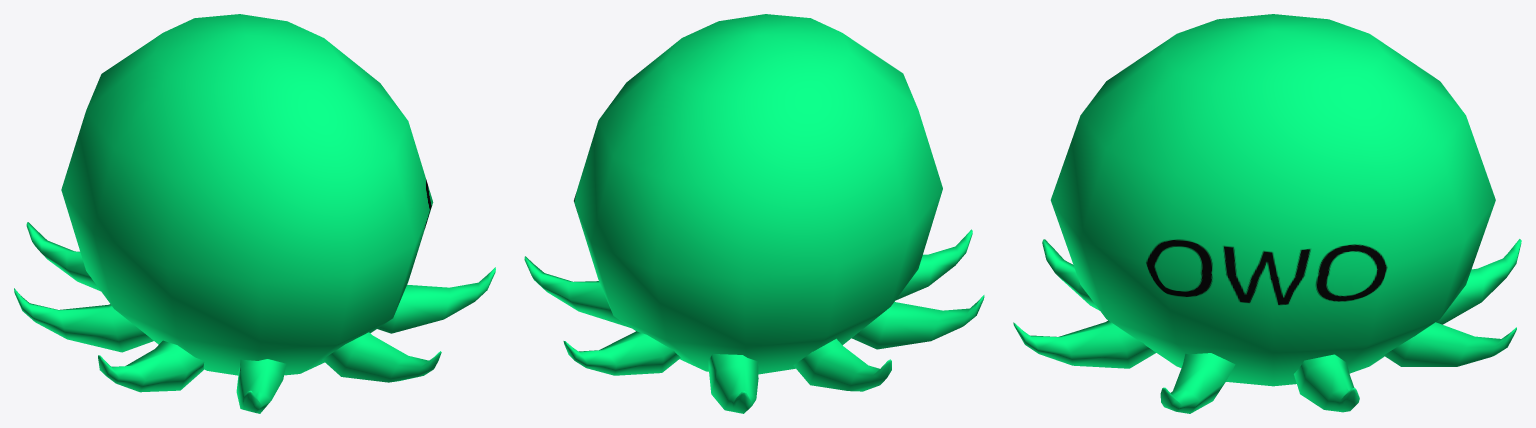
File: Octopus Blob OWO GREEN.fbx
3 renders of one model, left to right at view 1: azimuth 30°, elevation 25°; view 2: azimuth 150°, elevation 25°; view 3: azimuth 270°, elevation 25°, orthographic. The views are drawn at different scales.
Parts seen in each view (by area): view 1: Cylinder006; view 2: Cylinder006; view 3: Cylinder006.
Part boxes in pixels (<box>): Cylinder006: <box>14,14,495,413</box>; Cylinder006: <box>524,14,984,413</box>; Cylinder006: <box>1013,14,1521,413</box>.
Size of the model in its own units: 17.84 by 13.75 by 19.36.
1 material, 1 textured.
